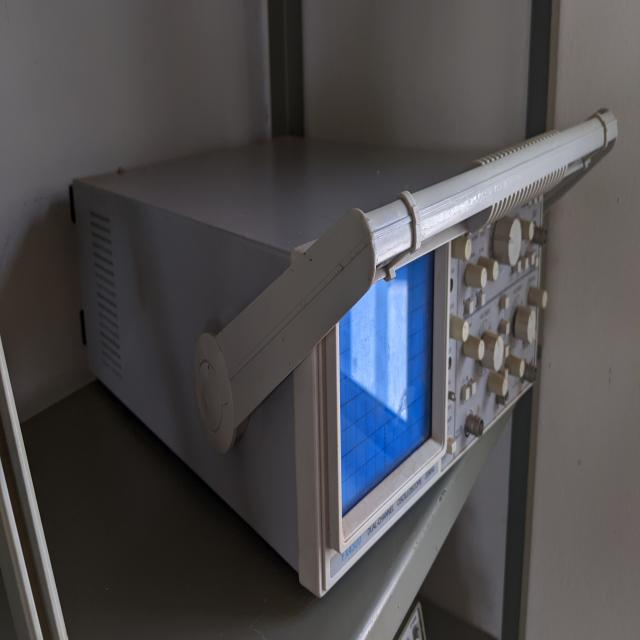Cathode Ray Oscilloscope: (73, 182, 592, 575)
